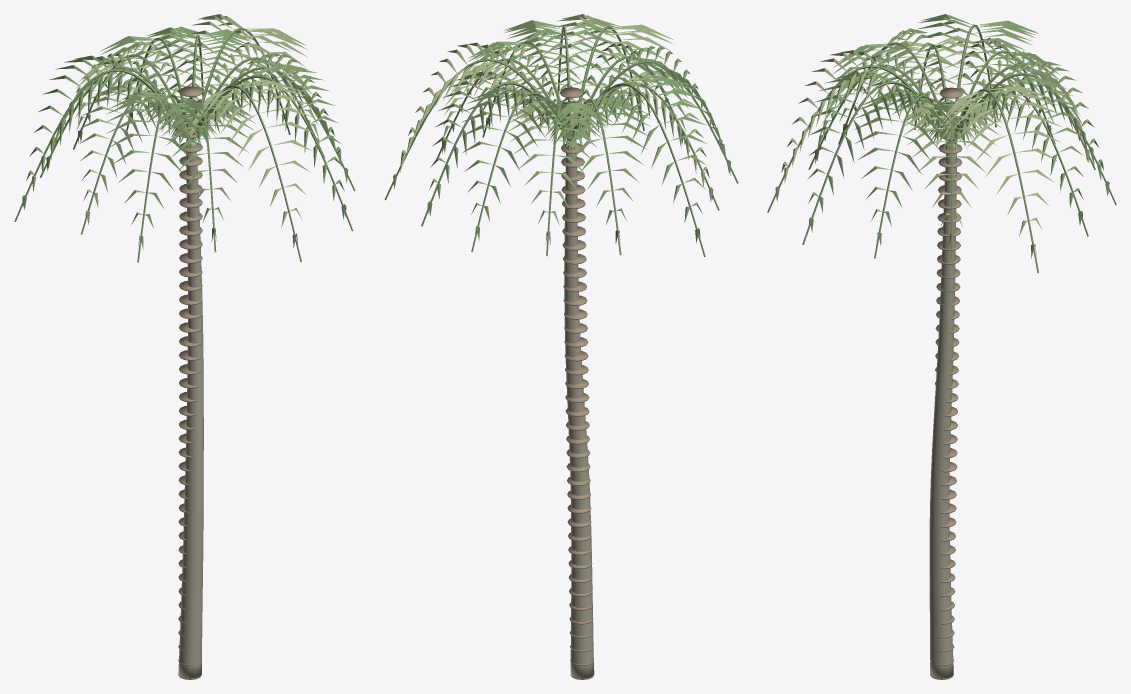
File: grove-specimen-12.glb
3 renders of one model, left to right at view 1: azimuth 30°, elevation 25°; view 2: azimuth 150°, elevation 25°; view 3: azimuth 270°, elevation 25°, orthographic.
Parts seen in each view (by area): view 1: grove-specimen-12; view 2: grove-specimen-12; view 3: grove-specimen-12.
Boxes of the visible parts, box(x1,y1,x2,y2) form: grove-specimen-12: box(14, 14, 355, 679); grove-specimen-12: box(384, 14, 738, 679); grove-specimen-12: box(767, 14, 1116, 679).
Size of the model in its own units: 4.97 by 9.8 by 5.02.
